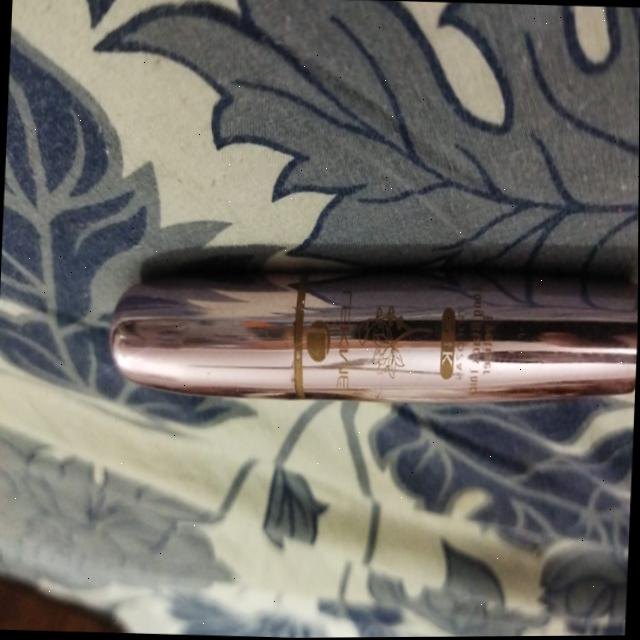mascara: (94, 222, 639, 440)
